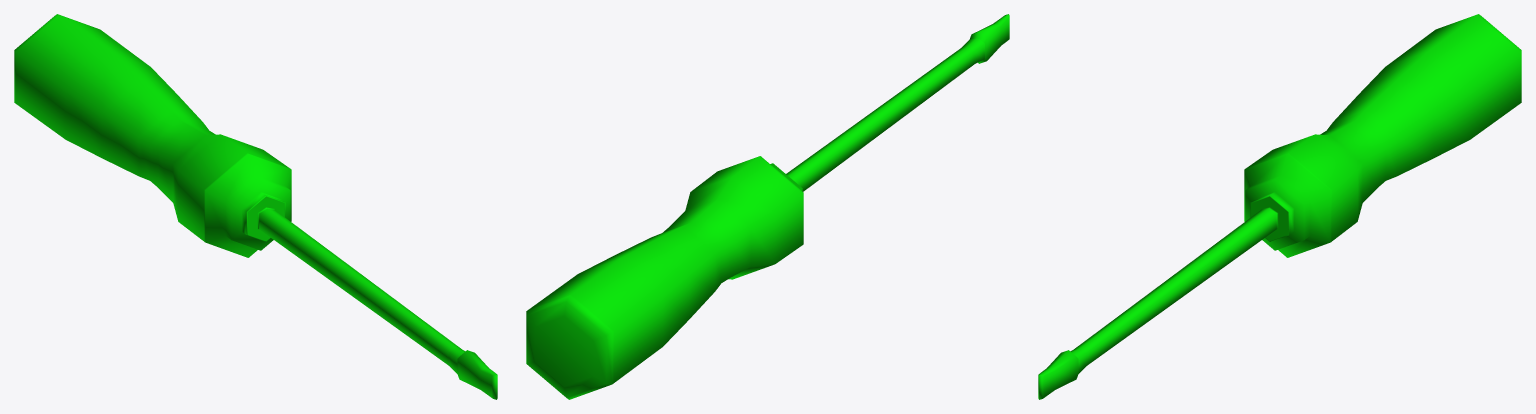
Rendered from ScrewDriver_msh.fbx.
3 renders of one model, left to right at view 1: azimuth 30°, elevation 25°; view 2: azimuth 150°, elevation 25°; view 3: azimuth 330°, elevation 25°, orthographic.
Visible parts, largest first — view 1: ScrewDriver_msh; view 2: ScrewDriver_msh; view 3: ScrewDriver_msh.
Boxes of the visible parts, x1,y1,x2,y2 form: ScrewDriver_msh: (14, 14, 497, 399); ScrewDriver_msh: (526, 14, 1009, 399); ScrewDriver_msh: (1038, 14, 1521, 399).
Size of the model in its own units: 4.36 by 5.03 by 38.93.
